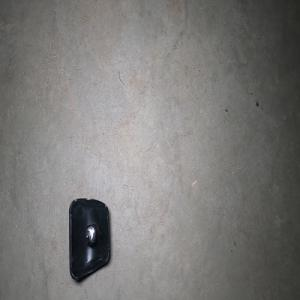LuggagePart: (68, 196, 111, 282)
